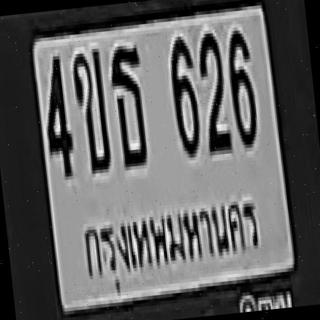A02: (68, 45, 110, 172)
A24: (106, 41, 149, 164)
N02: (194, 28, 231, 150)
N04: (37, 51, 74, 173)
N06: (222, 25, 258, 144), (165, 31, 200, 153)
P04: (77, 188, 273, 302)
